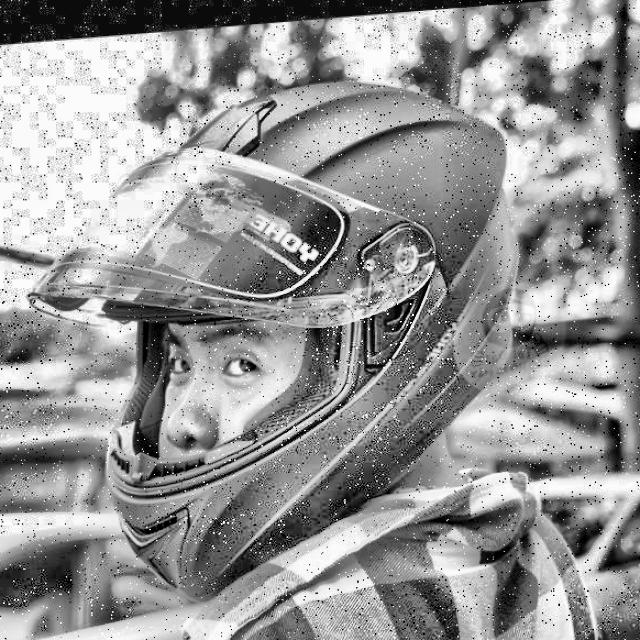Helmet: (9, 48, 544, 618)
